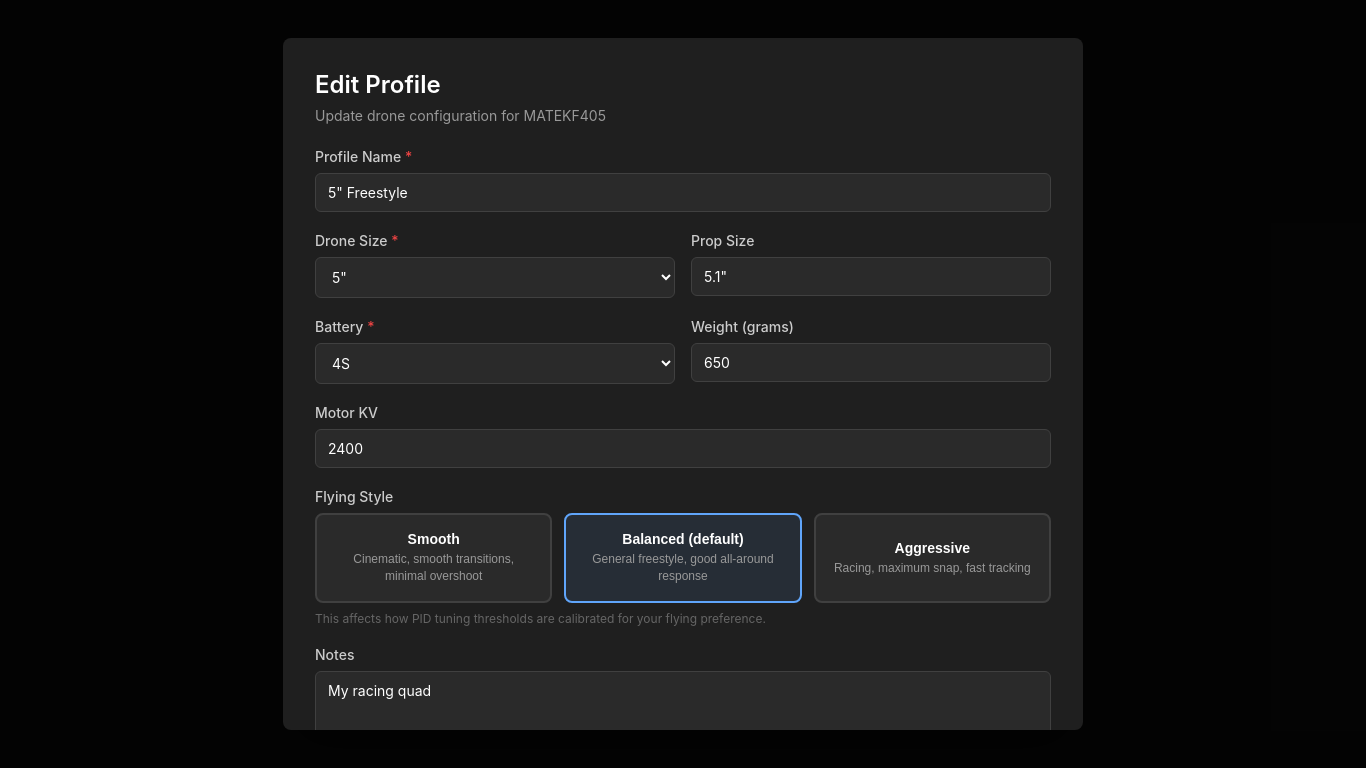
it: ProfileEditModal › disables save button when name is empty
This screenshot has width=1366, height=768.
Clear the field showing "5\" Freestyle" below "Profile Name" at (683, 193), box [315,173,1051,212]
(page scrolled)
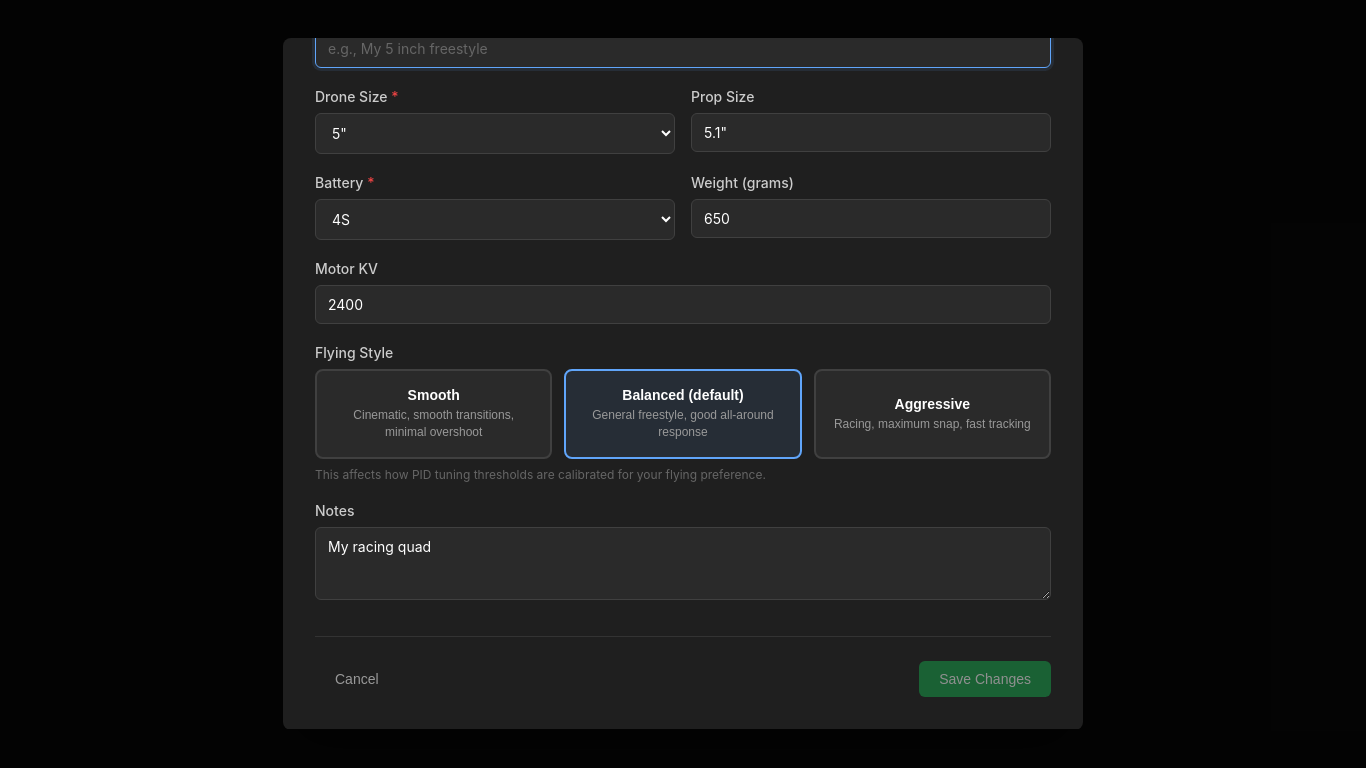
Check: the button "Save Changes" is disabled, box [919,661,1051,697]
